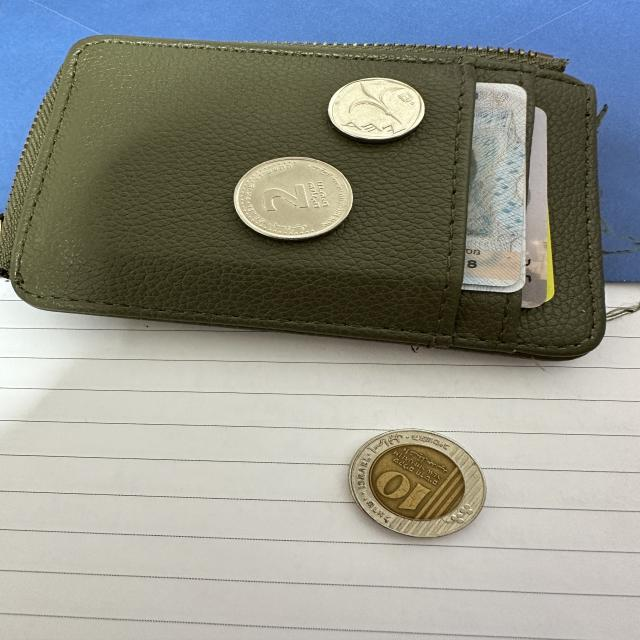1-shekel: (329, 76, 426, 141)
10-shekel: (345, 427, 492, 538)
2-shekel: (233, 155, 356, 240)
